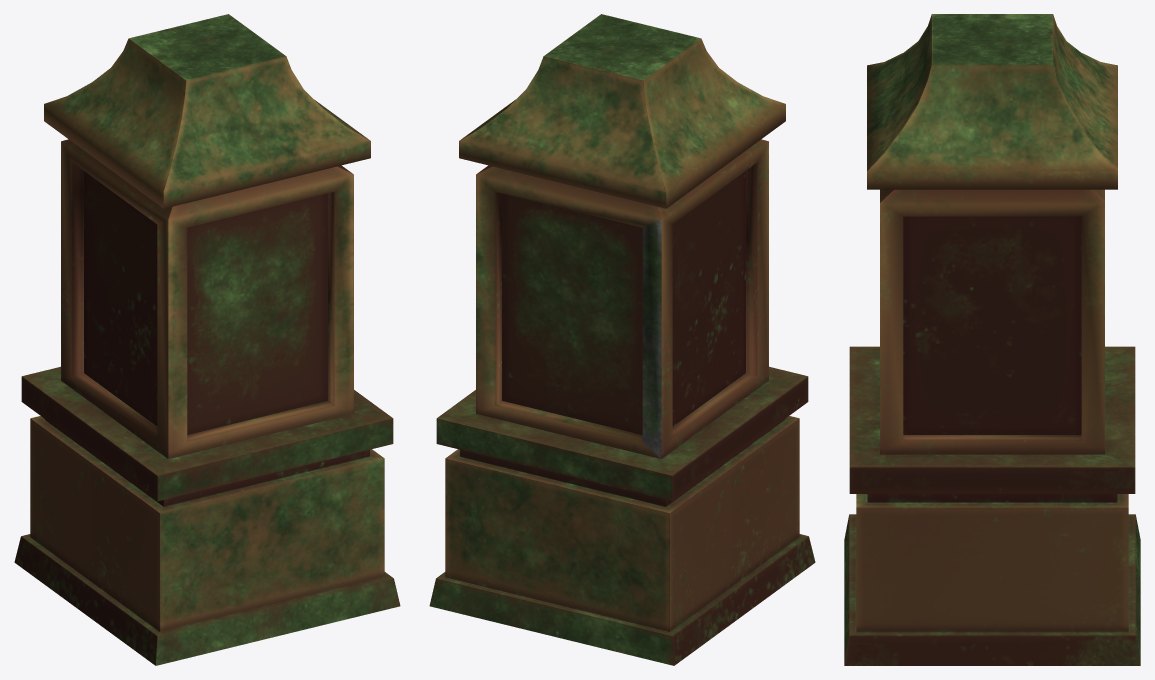
File: Pilar Raro.fbx
The picture shows the model from 3 angles, left to right: view 1: azimuth 30°, elevation 25°; view 2: azimuth 150°, elevation 25°; view 3: azimuth 270°, elevation 25°; orthographic projection. The views are drawn at different scales.
Parts seen in each view (by area): view 1: Cube.124; view 2: Cube.124; view 3: Cube.124.
Part boxes in pixels (bbox=[...]): Cube.124: bbox=[14, 14, 400, 665]; Cube.124: bbox=[429, 14, 815, 665]; Cube.124: bbox=[844, 14, 1140, 665].
Bounding box in the file's own units: 4 × 8.39 × 4.
